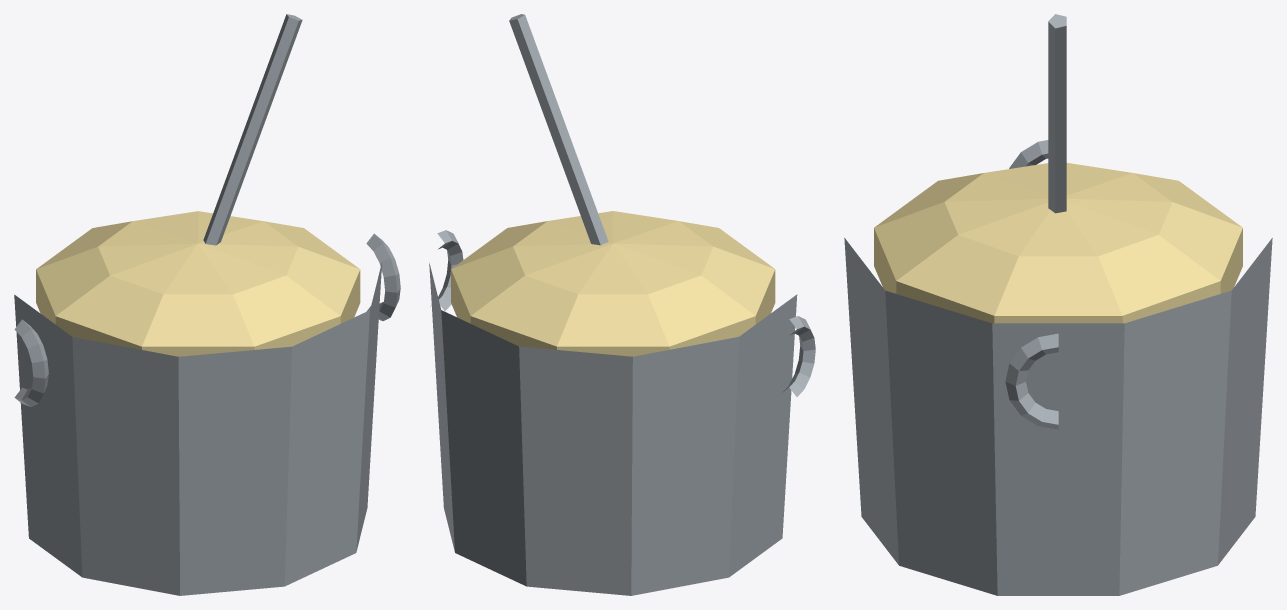
File: prison_food_pot.glb
3 renders of one model, left to right at view 1: azimuth 30°, elevation 25°; view 2: azimuth 150°, elevation 25°; view 3: azimuth 270°, elevation 25°, orthographic. The views are drawn at different scales.
Visible parts, largest first — view 1: pot_pot_steel, mash_mash, ladle_pot_steel; view 2: pot_pot_steel, mash_mash, ladle_pot_steel; view 3: pot_pot_steel, mash_mash, ladle_pot_steel.
Boxes of the visible parts, x1=… form: pot_pot_steel: x1=14, y1=233, x2=400, y2=595; mash_mash: x1=36, y1=211, x2=360, y2=356; ladle_pot_steel: x1=203, y1=14, x2=302, y2=245; pot_pot_steel: x1=429, y1=230, x2=815, y2=595; mash_mash: x1=451, y1=211, x2=775, y2=356; ladle_pot_steel: x1=509, y1=14, x2=608, y2=245; pot_pot_steel: x1=844, y1=140, x2=1272, y2=595; mash_mash: x1=874, y1=163, x2=1242, y2=323; ladle_pot_steel: x1=1048, y1=14, x2=1066, y2=213.
Size of the model in its own units: 0.564 by 0.7117 by 0.5.
